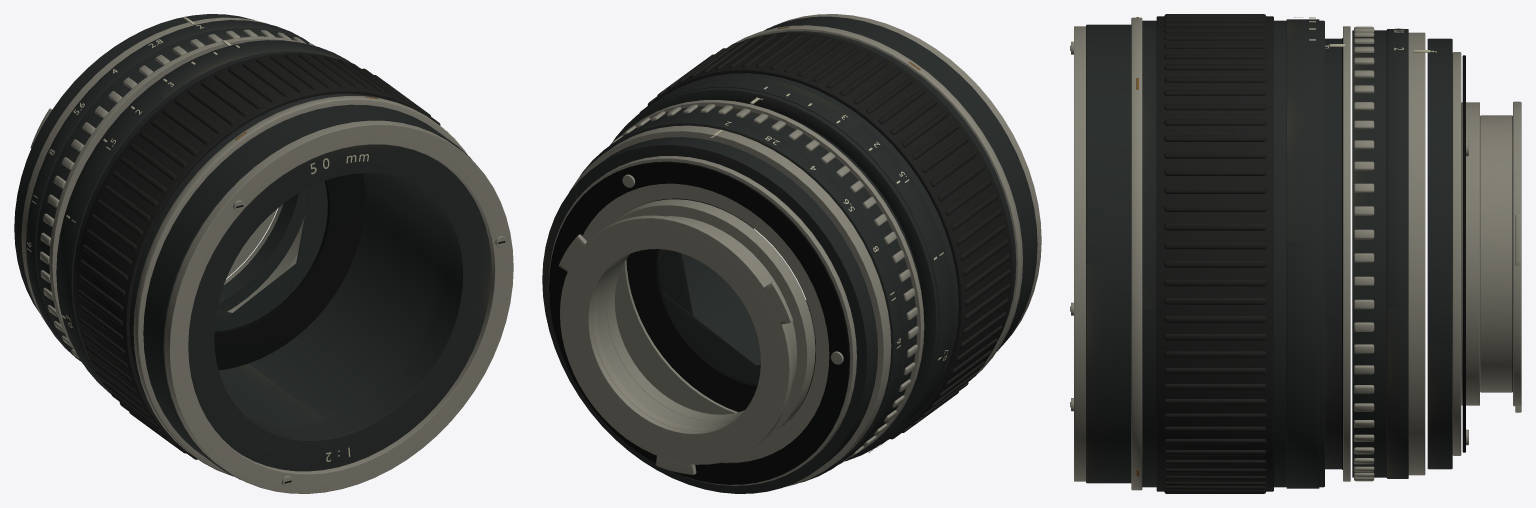
The model's file is B02_Lens50.fbx.
3 views of the same model, side by side, from view 1: azimuth 30°, elevation 25°; view 2: azimuth 150°, elevation 25°; view 3: azimuth 270°, elevation 25° (orthographic). The views are drawn at different scales.
Visible parts, largest first — view 1: Barrel_Mesh, FocusRing_Mesh, ApertureRing_Mesh, Blade_07_Mesh, Blade_06_Mesh; view 2: Barrel_Mesh, FocusRing_Mesh, ApertureRing_Mesh, Blade_06_Mesh, Blade_07_Mesh; view 3: FocusRing_Mesh, Barrel_Mesh, ApertureRing_Mesh.
Part boxes in pixels (left/top/right/bottom): Barrel_Mesh: left=14, top=14, right=513, bottom=493; FocusRing_Mesh: left=56, top=40, right=467, bottom=476; ApertureRing_Mesh: left=26, top=20, right=314, bottom=364; Blade_07_Mesh: left=290, top=181, right=327, bottom=293; Blade_06_Mesh: left=214, top=264, right=295, bottom=331; Barrel_Mesh: left=542, top=14, right=1041, bottom=493; FocusRing_Mesh: left=613, top=25, right=1022, bottom=461; ApertureRing_Mesh: left=579, top=104, right=918, bottom=482; Blade_06_Mesh: left=662, top=292, right=756, bottom=372; Blade_07_Mesh: left=658, top=250, right=693, bottom=315; FocusRing_Mesh: left=1131, top=14, right=1324, bottom=493; Barrel_Mesh: left=1070, top=24, right=1521, bottom=483; ApertureRing_Mesh: left=1352, top=26, right=1408, bottom=481.
Bounding box in the file's own units: 0.0613 × 0.0613 × 0.0576.
